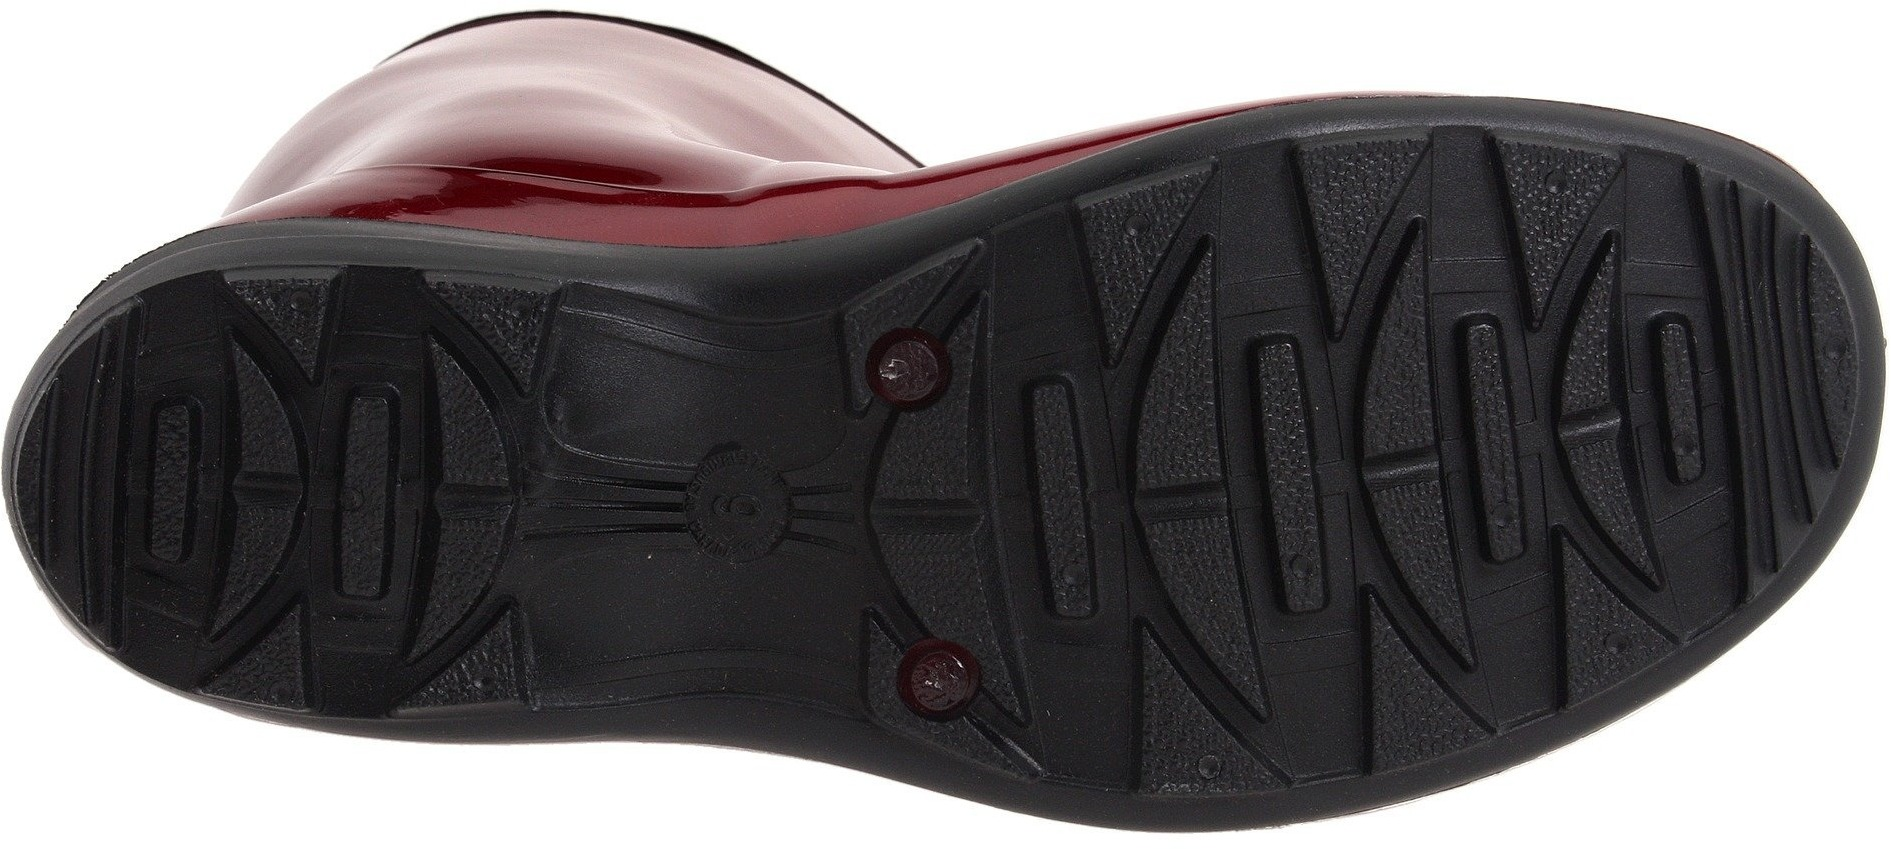circle: (841, 578, 1075, 775)
line: (1696, 258, 1844, 414)
quad: (267, 336, 493, 619), (841, 578, 1075, 775), (861, 322, 977, 441)
text: (698, 472, 762, 539)
triangle: (1099, 610, 1323, 814), (1281, 122, 1460, 349), (1517, 523, 1688, 681)
